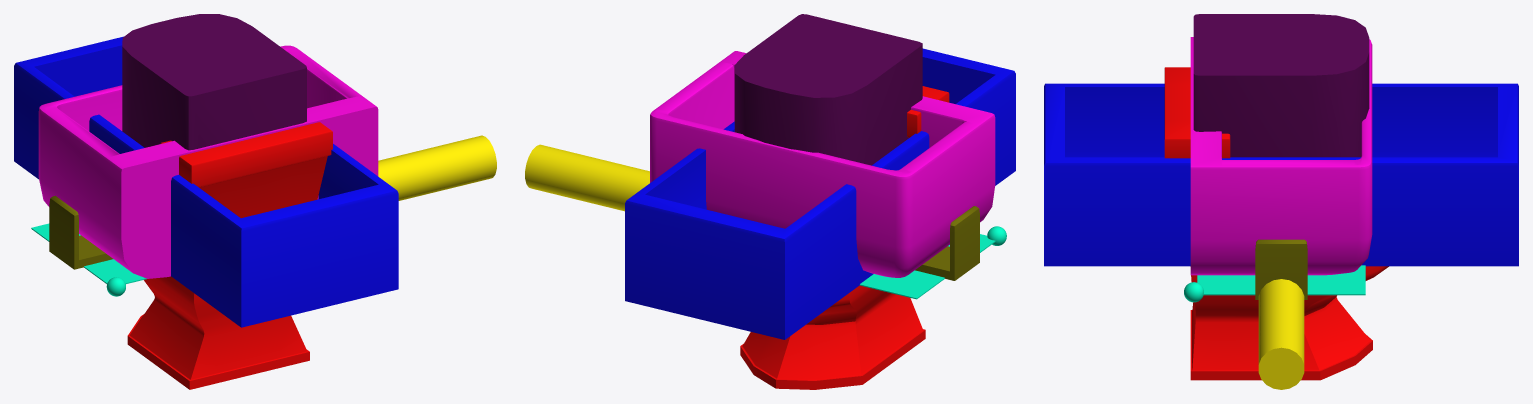
File: MeubleSalleDouche.fbx
3 renders of one model, left to right at view 1: azimuth 30°, elevation 25°; view 2: azimuth 150°, elevation 25°; view 3: azimuth 270°, elevation 25°, orthographic. The views are drawn at different scales.
Parts seen in each view (by area): view 1: Baignoire, BacEvier, Box001, SousEvier, LampeSDB, SupportLampeSDB, EtagèreSDBain; view 2: Baignoire, BacEvier, SousEvier, Box001, LampeSDB, SupportLampeSDB, EtagèreSDBain; view 3: Baignoire, SousEvier, BacEvier, Box001, LampeSDB, EtagèreSDBain, SupportLampeSDB.
Boxes of the visible parts, box(x1,y1,x2,y2) form: Baignoire: box(14, 36, 398, 327); BacEvier: box(38, 45, 378, 278); Box001: box(127, 122, 332, 389); SousEvier: box(122, 14, 306, 150); LampeSDB: box(378, 135, 496, 200); SupportLampeSDB: box(49, 195, 112, 269); EtagèreSDBain: box(31, 223, 146, 296); Baignoire: box(625, 48, 1015, 339); BacEvier: box(650, 51, 995, 277); SousEvier: box(734, 14, 922, 165); Box001: box(740, 86, 949, 389); LampeSDB: box(525, 144, 649, 211); SupportLampeSDB: box(915, 206, 979, 280); EtagèreSDBain: box(859, 226, 1006, 299); Baignoire: box(1044, 83, 1518, 266); SousEvier: box(1193, 14, 1369, 157); BacEvier: box(1190, 37, 1372, 275); Box001: box(1164, 67, 1388, 380); LampeSDB: box(1258, 279, 1304, 389); EtagèreSDBain: box(1184, 265, 1365, 302); SupportLampeSDB: box(1255, 239, 1307, 299).
Size of the model in its own units: 63.64 by 41.83 by 59.06.
